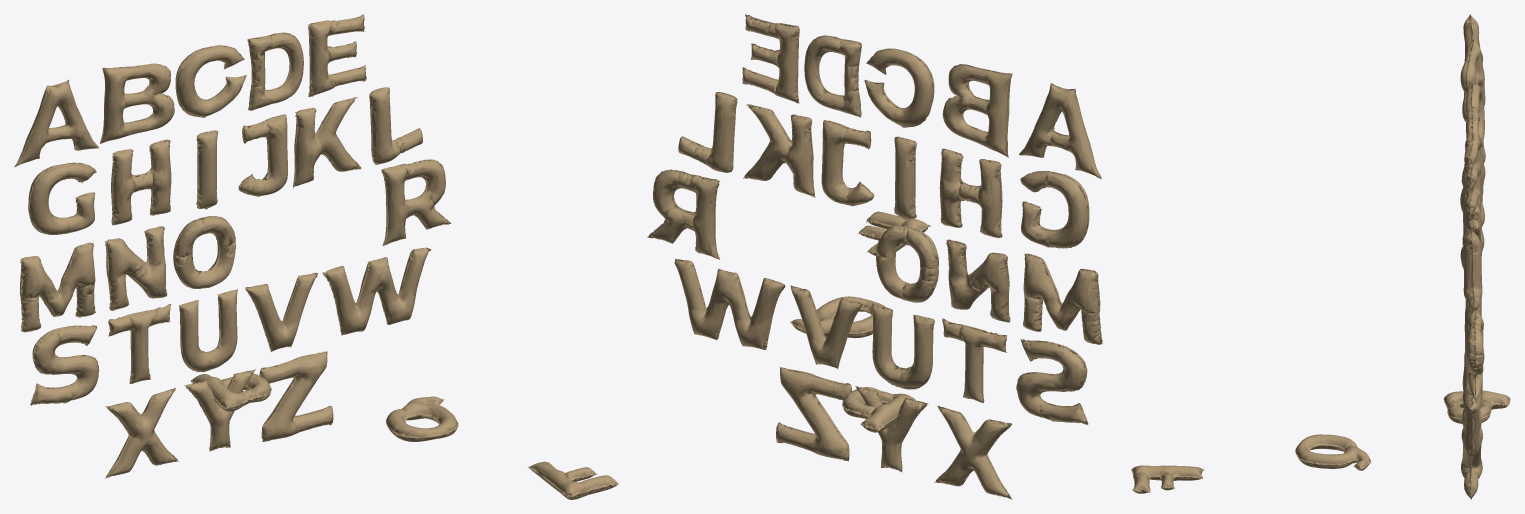
Rendered from BalloonText.glb.
3 views of the same model, side by side, from view 1: azimuth 30°, elevation 25°; view 2: azimuth 150°, elevation 25°; view 3: azimuth 270°, elevation 25° (orthographic). The views are drawn at different scales.
Visible parts, largest first — view 1: W, M, B, Z, R, S, H, N, K, G, X, O (+14 smaller); view 2: W, M, B, Z, R, S, H, K, G, A, X, N (+14 smaller); view 3: Q, F, R, L, W, E, P, B, Z, C, K, A.
Part boxes in pixels (<box>): W: <box>322,247,430,335</box>; M: <box>20,242,95,332</box>; B: <box>100,63,174,143</box>; Z: <box>259,351,333,441</box>; R: <box>381,159,451,245</box>; S: <box>30,325,99,405</box>; H: <box>111,139,171,225</box>; N: <box>105,226,167,310</box>; K: <box>293,97,361,188</box>; G: <box>28,162,96,234</box>; X: <box>104,388,178,478</box>; O: <box>173,216,235,288</box>; W: <box>674,259,785,349</box>; M: <box>1023,253,1102,344</box>; B: <box>942,64,1012,157</box>; Z: <box>776,367,851,461</box>; R: <box>647,169,720,259</box>; S: <box>1016,339,1088,424</box>; H: <box>939,148,1002,237</box>; K: <box>743,104,815,197</box>; G: <box>1020,170,1089,248</box>; A: <box>1019,83,1101,179</box>; X: <box>934,405,1012,499</box>; N: <box>946,239,1010,322</box>; Q: <box>1295,434,1370,470</box>; F: <box>1131,465,1204,493</box>; R: <box>1466,310,1484,402</box>; L: <box>1463,232,1482,311</box>; W: <box>1462,366,1481,457</box>; E: <box>1464,132,1481,216</box>; P: <box>1443,390,1510,423</box>; B: <box>1460,37,1485,122</box>; Z: <box>1461,427,1482,499</box>; C: <box>1465,83,1484,147</box>; K: <box>1462,205,1484,252</box>; A: <box>1463,14,1483,61</box>.
Bounding box in the file's own units: 19.73 × 17.78 × 16.73.
